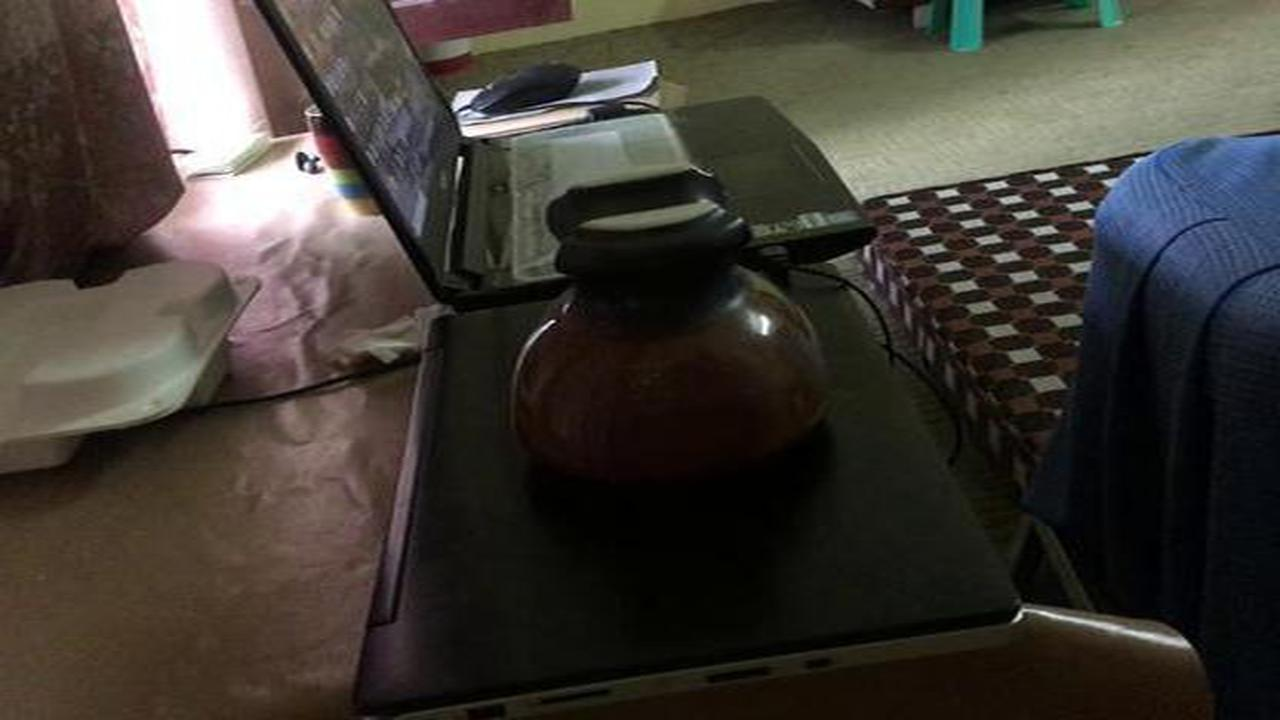insulator_pin: (481, 163, 871, 509)
